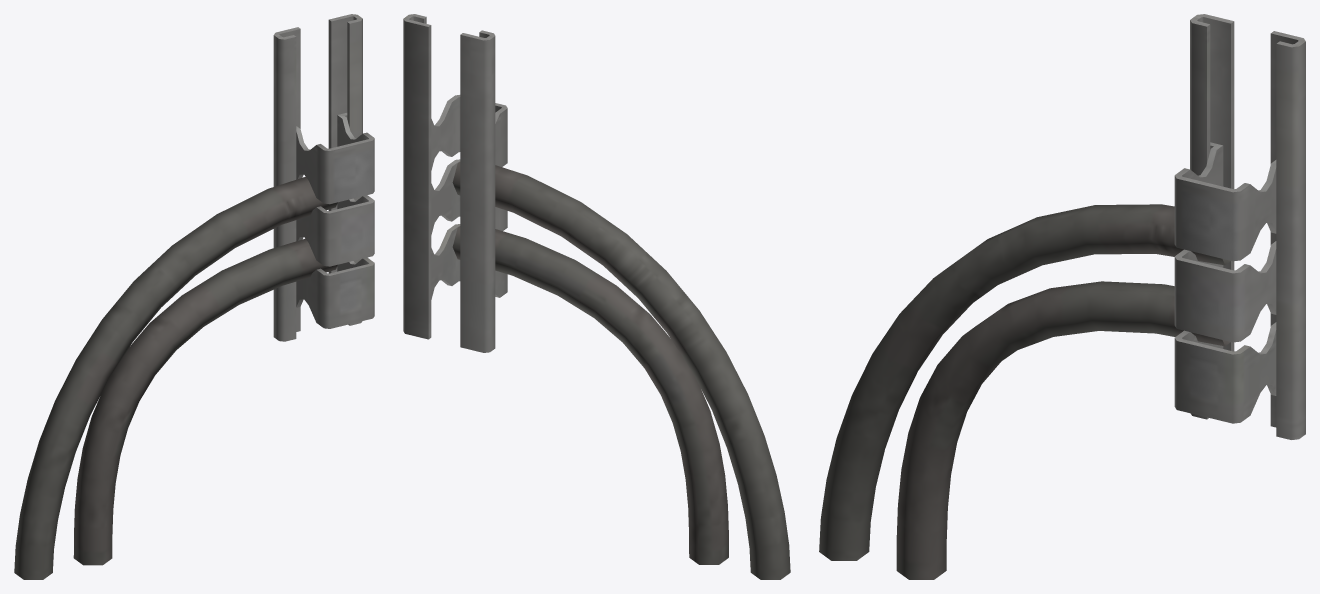
The model's file is cable_double_alt_turn.gltf.
3 renders of one model, left to right at view 1: azimuth 30°, elevation 25°; view 2: azimuth 150°, elevation 25°; view 3: azimuth 330°, elevation 25°, orthographic. The views are drawn at different scales.
Parts seen in each view (by area): view 1: cable_double_alt_turn; view 2: cable_double_alt_turn; view 3: cable_double_alt_turn.
Boxes of the visible parts, x1,y1,x2,y2 form: cable_double_alt_turn: [14, 14, 374, 579]; cable_double_alt_turn: [403, 14, 790, 579]; cable_double_alt_turn: [819, 14, 1305, 579].
Size of the model in its own units: 0.1189 by 0.149 by 0.0221.
Materials: 1 (1 with a texture image).
